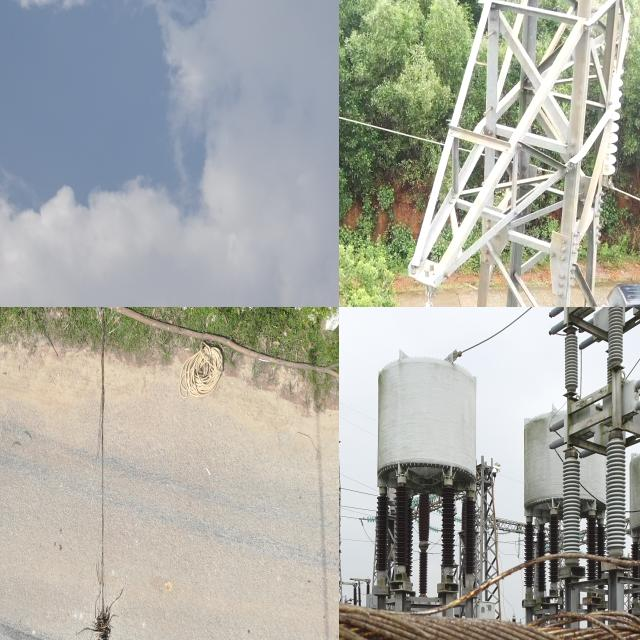杆塔: (398, 0, 640, 307)
正常电缆: (339, 103, 640, 216)
电缆破损: (339, 529, 640, 640), (79, 307, 125, 640)
